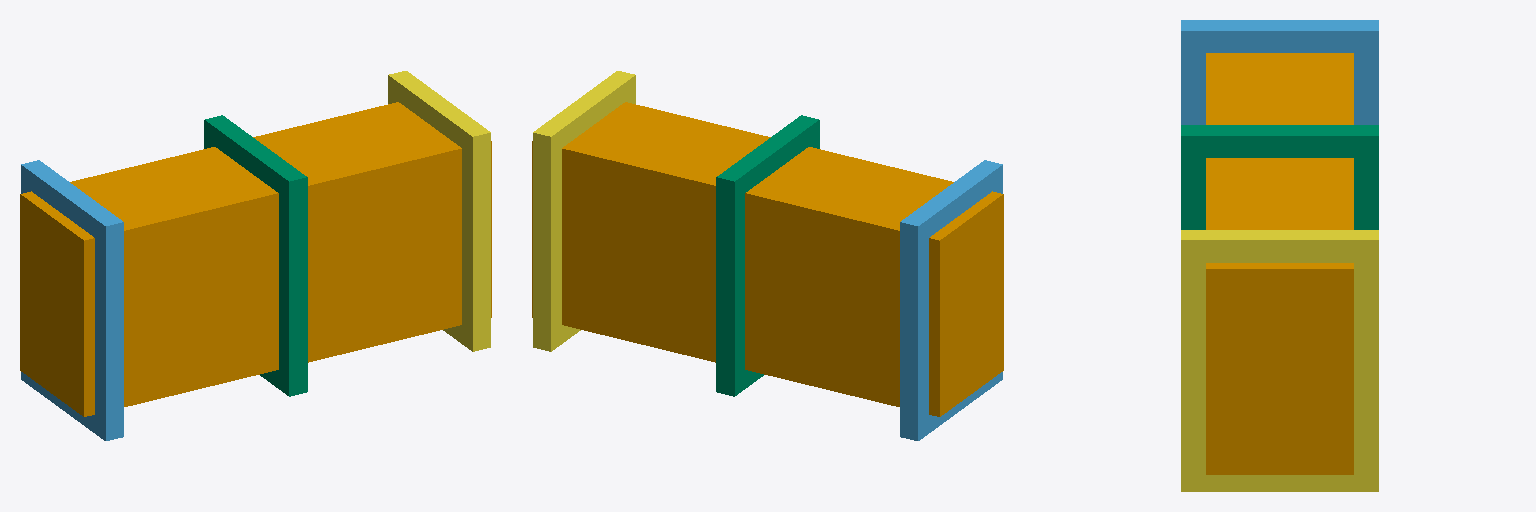
URDF robot description (debris023):
<?xml version="1.0" ?>
<robot name="debris023">

<link name="debris023">
<visual> <origin xyz="0 0 0" rpy="0 0 0" />
<geometry> <box size="1.11 0.30 0.46"/> </geometry>
</visual>
<collision> <origin xyz="0 0 0" rpy="0 0 0" />
<geometry> <box size="1.11 0.30 0.46"/> </geometry>
</collision>
<inertial> <origin xyz="0 0 0" rpy="0 0 0" />
<mass value="10.0" />
<inertia ixx="0.6414" ixy="0" ixz="0" iyy="0.6414" iyz="0" izz="0.6414" />
</inertial>
</link>
<gazebo reference="debris023"> <material>Gazebo/Tree</material> </gazebo>

<link name="debris0230">
<visual> <origin xyz="-0.50 0 0" rpy="0 0 0" />
<geometry> <box size="0.05 0.40 0.56"/> </geometry>
</visual>
<collision> <origin xyz="-0.50 0 0" rpy="0 0 0" />
<geometry> <box size="0.05 0.40 0.56"/> </geometry>
</collision>
<inertial> <origin xyz="0 0 0" rpy="0 0 0" />
<mass value="0.1" />
<inertia ixx="0.0100" ixy="0" ixz="0" iyy="0.0100" iyz="0" izz="0.0100" />
</inertial>
</link>
<gazebo reference="debris0230"> <material>Gazebo/Tree</material> </gazebo>

<joint name="debris0230joint" type="fixed">
<parent link="debris023"/>
<child link="debris0230"/>
<origin xyz="0 0 0" rpy="0 0 0" />
</joint>

<link name="debris0231">
<visual> <origin xyz="0.00 0 0" rpy="0 0 0" />
<geometry> <box size="0.05 0.40 0.56"/> </geometry>
</visual>
<collision> <origin xyz="0.00 0 0" rpy="0 0 0" />
<geometry> <box size="0.05 0.40 0.56"/> </geometry>
</collision>
<inertial> <origin xyz="0 0 0" rpy="0 0 0" />
<mass value="0.1" />
<inertia ixx="0.0100" ixy="0" ixz="0" iyy="0.0100" iyz="0" izz="0.0100" />
</inertial>
</link>
<gazebo reference="debris0231"> <material>Gazebo/Tree</material> </gazebo>

<joint name="debris0231joint" type="fixed">
<parent link="debris023"/>
<child link="debris0231"/>
<origin xyz="0 0 0" rpy="0 0 0" />
</joint>

<link name="debris0232">
<visual> <origin xyz="0.50 0 0" rpy="0 0 0" />
<geometry> <box size="0.05 0.40 0.56"/> </geometry>
</visual>
<collision> <origin xyz="0.50 0 0" rpy="0 0 0" />
<geometry> <box size="0.05 0.40 0.56"/> </geometry>
</collision>
<inertial> <origin xyz="0 0 0" rpy="0 0 0" />
<mass value="0.1" />
<inertia ixx="0.0100" ixy="0" ixz="0" iyy="0.0100" iyz="0" izz="0.0100" />
</inertial>
</link>
<gazebo reference="debris0232"> <material>Gazebo/Tree</material> </gazebo>

<joint name="debris0232joint" type="fixed">
<parent link="debris023"/>
<child link="debris0232"/>
<origin xyz="0 0 0" rpy="0 0 0" />
</joint>

</robot>

--- Facts derived from the render (not from the file) ---
The picture shows the robot from 3 angles, left to right: view 1: azimuth 30°, elevation 25°; view 2: azimuth 150°, elevation 25°; view 3: azimuth 270°, elevation 25°; orthographic projection.
Model debris023 with 4 links and 3 joints (3 fixed), rooted at debris023, posed all joints at 0.
Visible links, largest first — view 1: debris023, debris0230, debris0231, debris0232; view 2: debris023, debris0230, debris0231, debris0232; view 3: debris023, debris0232, debris0230, debris0231.
Boxes of the visible links, x1,y1,x2,y2 form: debris023: [20, 102, 491, 416]; debris0230: [21, 160, 123, 440]; debris0231: [204, 115, 307, 396]; debris0232: [388, 71, 490, 351]; debris023: [532, 102, 1003, 416]; debris0230: [900, 160, 1002, 440]; debris0231: [716, 115, 819, 396]; debris0232: [533, 71, 635, 351]; debris023: [1206, 53, 1353, 474]; debris0232: [1181, 230, 1378, 491]; debris0230: [1181, 20, 1378, 124]; debris0231: [1181, 125, 1378, 229].
Bounding box of the posed robot: 1.11 × 0.4 × 0.56 m (x, y, z).
Geometry: primitives only (box / cylinder / sphere), no mesh files.
